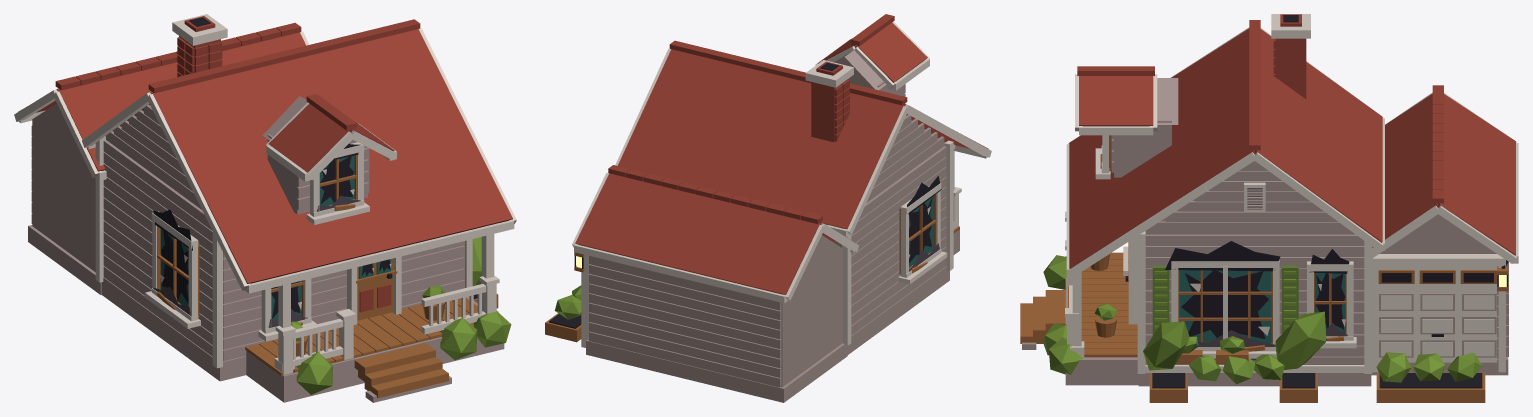
The picture shows the model from 3 angles, left to right: view 1: azimuth 30°, elevation 25°; view 2: azimuth 150°, elevation 25°; view 3: azimuth 270°, elevation 25°; orthographic projection. The views are drawn at different scales.
Visible parts, largest first — view 1: roof_pal_picketWhite, body_pal_picketWhite, dormer_roof_pal_picketWhite, door_entry_pal_picketWhite; view 2: roof_pal_picketWhite, body_pal_picketWhite, dormer_roof_pal_picketWhite; view 3: body_pal_picketWhite, roof_pal_picketWhite, door_garage_pal_picketWhite, dormer_roof_pal_picketWhite.
Boxes of the visible parts, x1,y1,x2,y2 form: roof_pal_picketWhite: [14, 14, 516, 293]; body_pal_picketWhite: [28, 103, 511, 402]; dormer_roof_pal_picketWhite: [266, 94, 396, 181]; door_entry_pal_picketWhite: [356, 258, 397, 320]; roof_pal_picketWhite: [572, 40, 991, 303]; body_pal_picketWhite: [545, 114, 961, 402]; dormer_roof_pal_picketWhite: [815, 14, 929, 90]; body_pal_picketWhite: [1020, 161, 1508, 402]; roof_pal_picketWhite: [1066, 14, 1518, 276]; door_garage_pal_picketWhite: [1378, 266, 1496, 362]; dormer_roof_pal_picketWhite: [1075, 66, 1157, 135].
Size of the model in its own units: 7.43 by 6.8 by 11.04.
